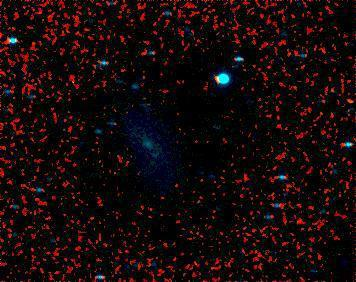star: (335, 84, 356, 114)
